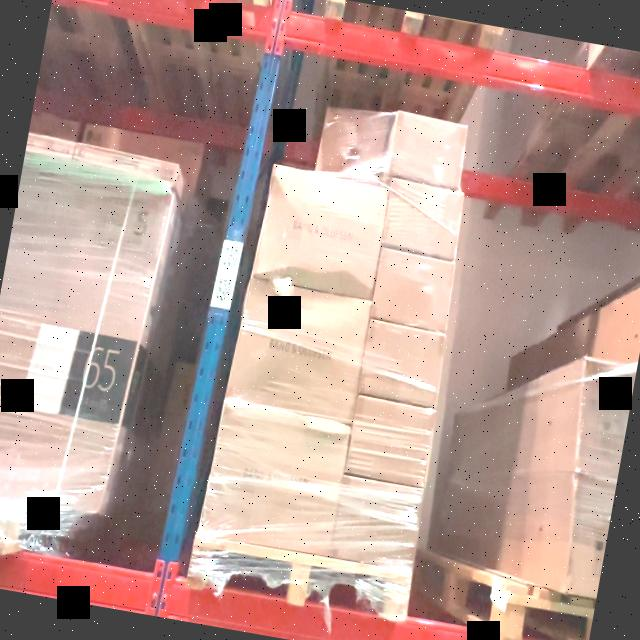box: (200, 406, 350, 556), (229, 282, 370, 421), (255, 168, 388, 296), (331, 476, 424, 570), (346, 398, 436, 488), (359, 324, 444, 406), (371, 249, 455, 330), (381, 182, 462, 258), (389, 112, 469, 188), (316, 108, 392, 183)
